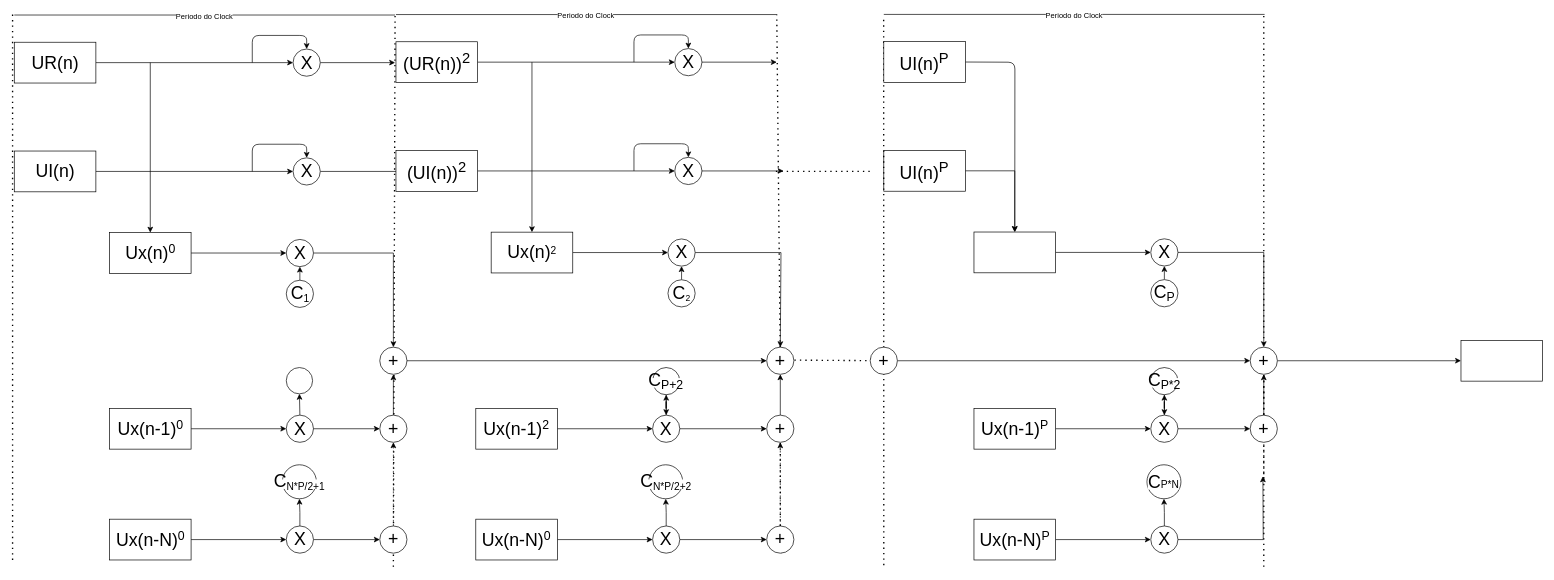
This 1554x580 diagram has some shape labels left out. The shapes that lost their labels are listed below. From the top down, each one's centre as x and y in pixels, then its label:
point (1014, 252): Ux(n) P
point (299, 380): C P/2+1
point (1501, 360): XR XI
